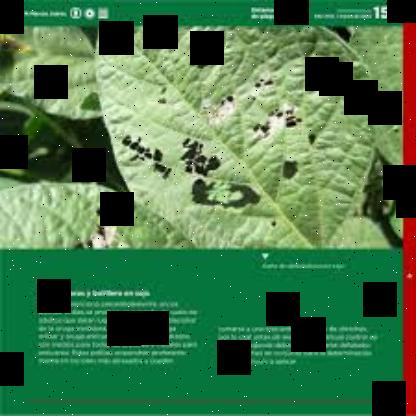agujero: (120, 130, 172, 182), (187, 178, 264, 212), (180, 133, 224, 181), (91, 201, 113, 239), (327, 24, 358, 50), (280, 156, 302, 186), (69, 235, 98, 253), (255, 118, 271, 146), (214, 91, 238, 109), (255, 74, 275, 90), (286, 113, 306, 129), (158, 83, 172, 101), (269, 107, 285, 119), (308, 131, 318, 149), (198, 57, 210, 71)
